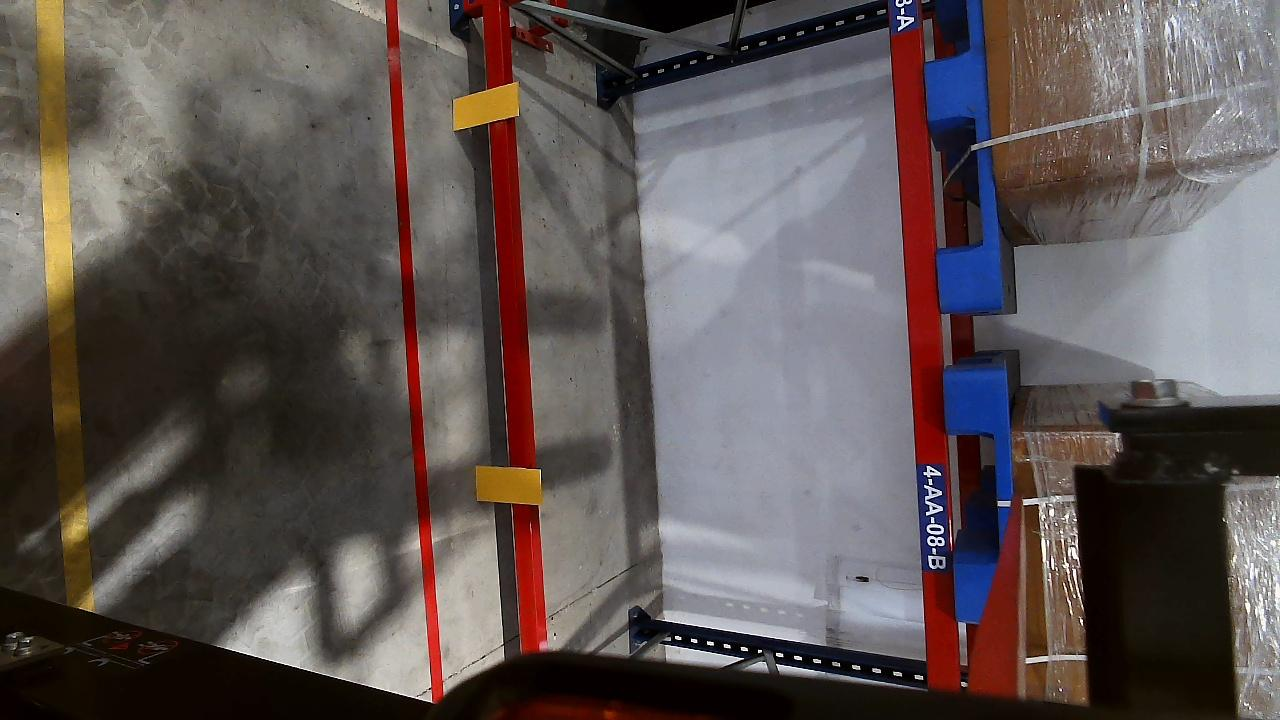h_rack: (884, 0, 955, 691), (478, 0, 541, 649)
orange_strip: (451, 83, 520, 130), (475, 466, 542, 505)
red_line: (385, 3, 447, 679)
small_pallet: (915, 1, 1008, 307), (943, 361, 1021, 680)
yellow_line: (39, 1, 109, 606)
